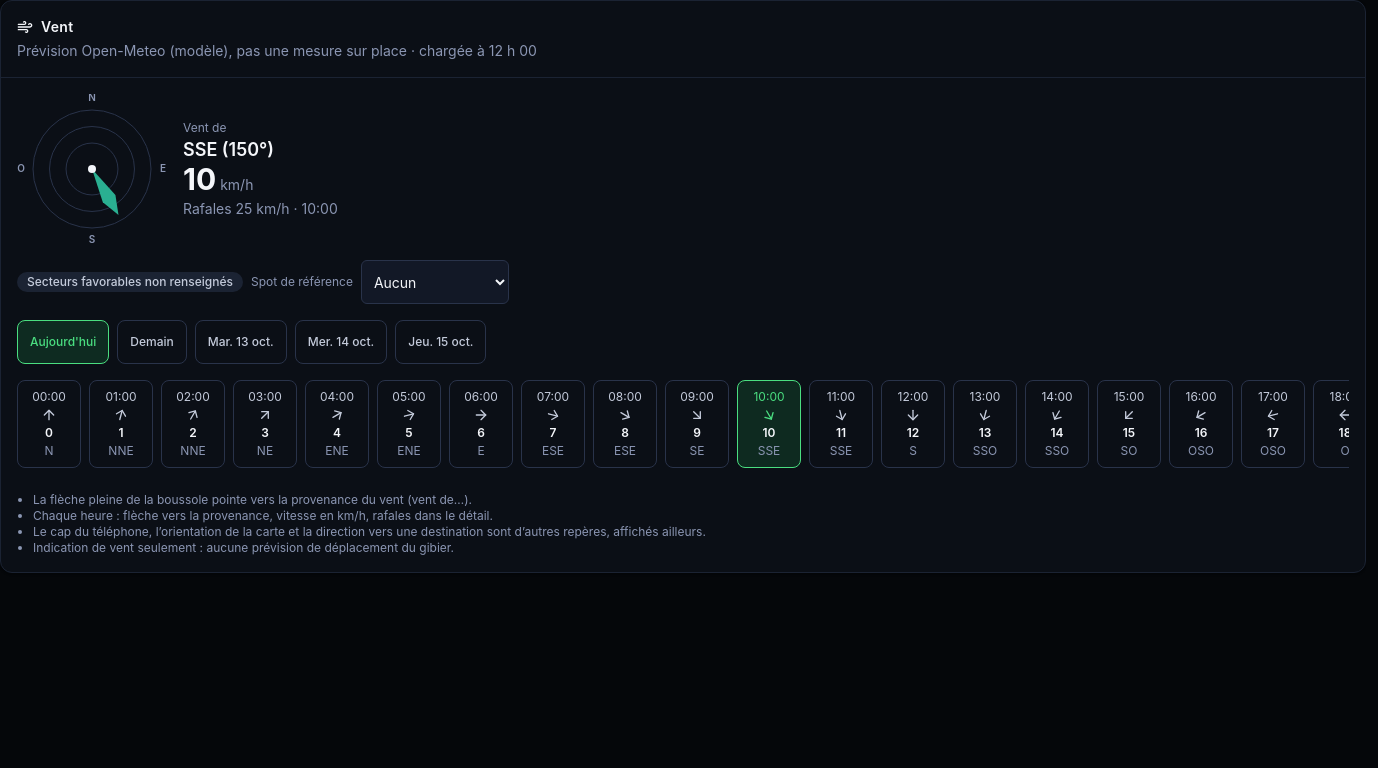
Test case: WindPanel › Météo page: five real days, each with its own hours; the shared hour follows the chosen day
Click the button "Jeu. 15 oct.". click: {"x": 441, "y": 342}
box: [395,320,486,364]
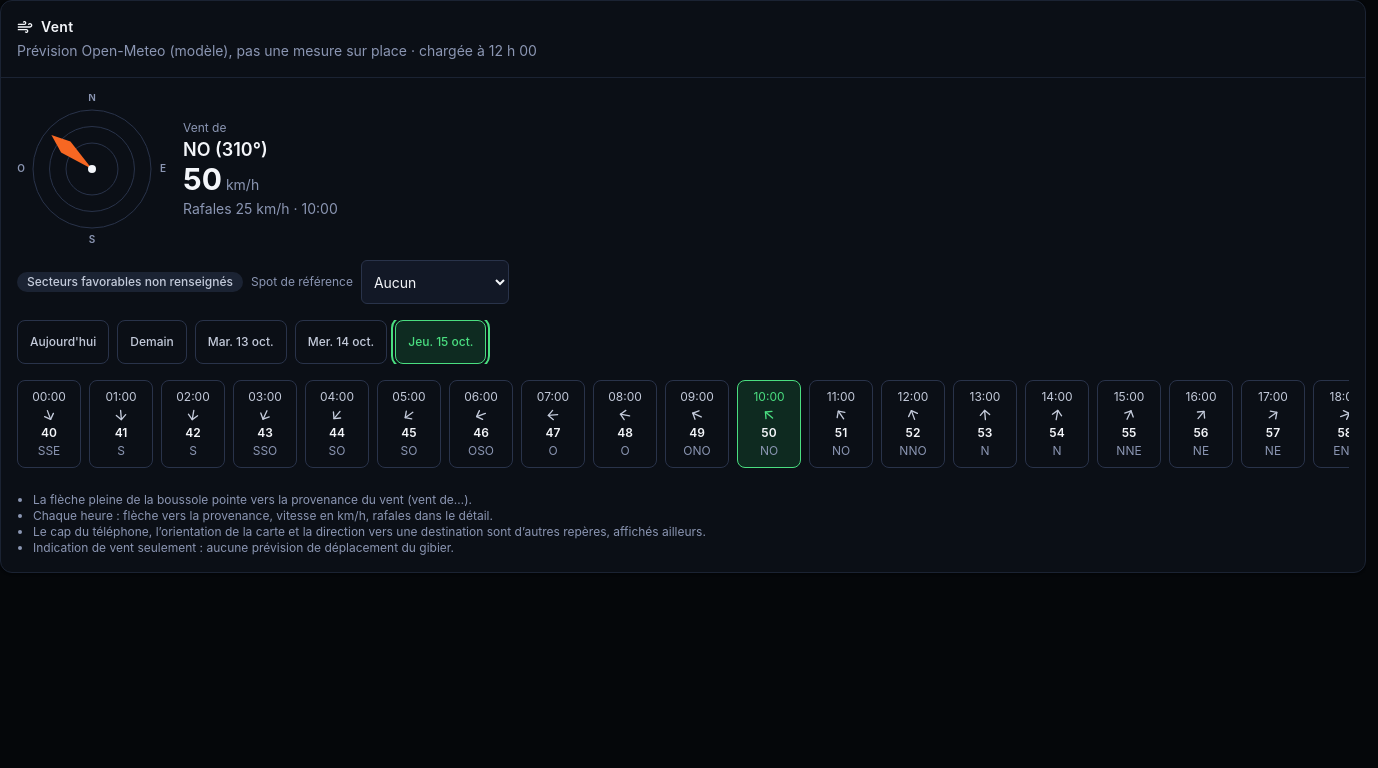
Expected: the button "10:00 50 NO" is shown, [737,380,801,468]
Expected: the text "50km/h" is shown, [183,160,259,196]
Expected: the text "NO (310°)" is shown, [183,138,268,160]
